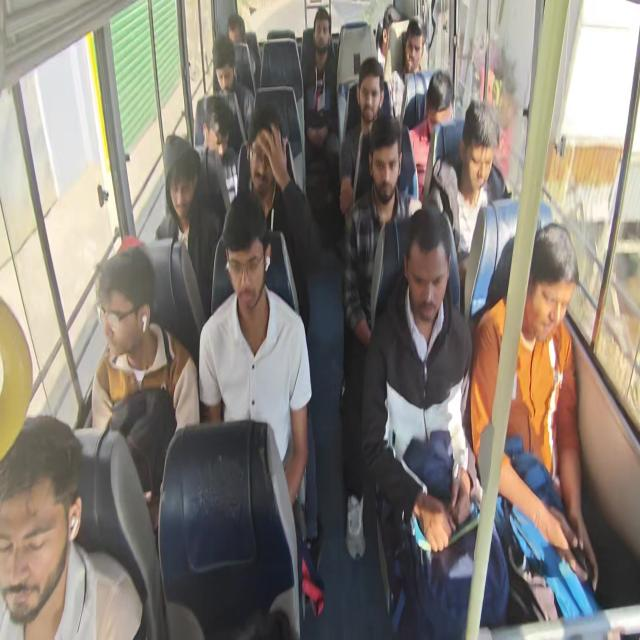person: (0, 421, 80, 633), (518, 238, 575, 349), (218, 216, 268, 308), (95, 277, 148, 359), (408, 233, 448, 325), (458, 113, 500, 193), (247, 124, 278, 190), (165, 154, 196, 220), (371, 133, 401, 200), (198, 101, 232, 156), (399, 29, 428, 92), (424, 80, 456, 134), (212, 36, 242, 90), (381, 8, 410, 58), (358, 73, 383, 121), (223, 12, 251, 47), (309, 8, 331, 52)
